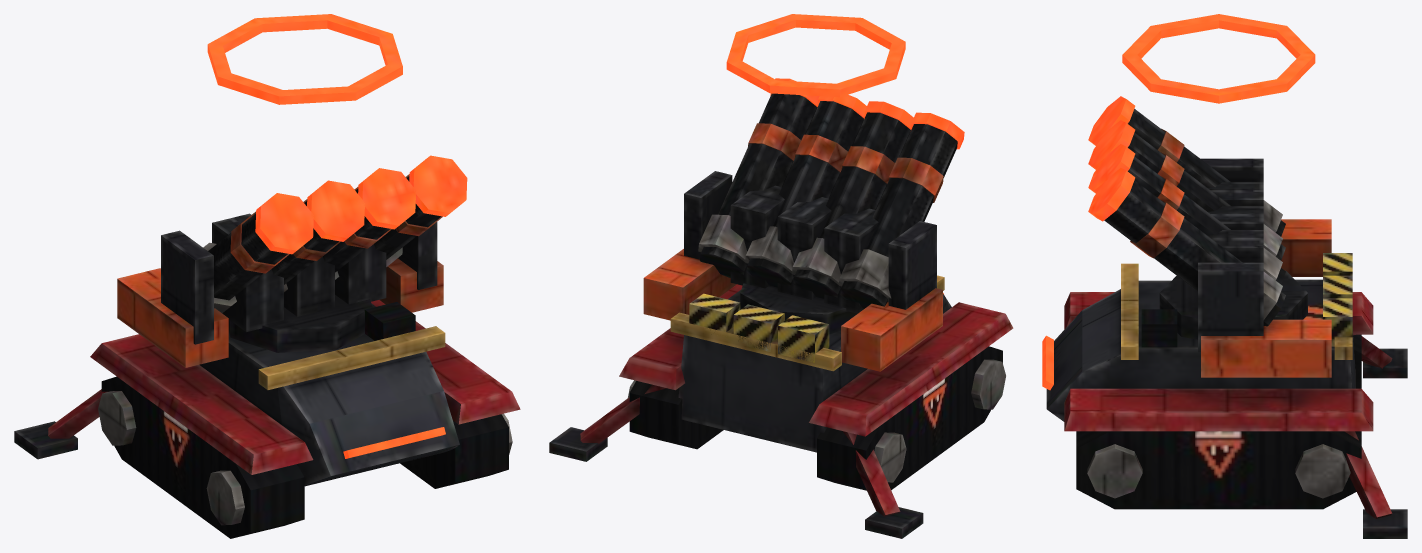
File: u_mortar4_e.glb
3 views of the same model, side by side, from view 1: azimuth 30°, elevation 25°; view 2: azimuth 150°, elevation 25°; view 3: azimuth 270°, elevation 25° (orthographic). The views are drawn at different scales.
Parts seen in each view (by area): view 1: u_mortar4_e; view 2: u_mortar4_e; view 3: u_mortar4_e.
Part boxes in pixels (<box>): u_mortar4_e: <box>14,14,520,538</box>; u_mortar4_e: <box>549,14,1013,538</box>; u_mortar4_e: <box>1042,14,1407,538</box>.
Size of the model in its own units: 1.76 by 1.8 by 1.51.
Materials: 1 (1 with a texture image).
